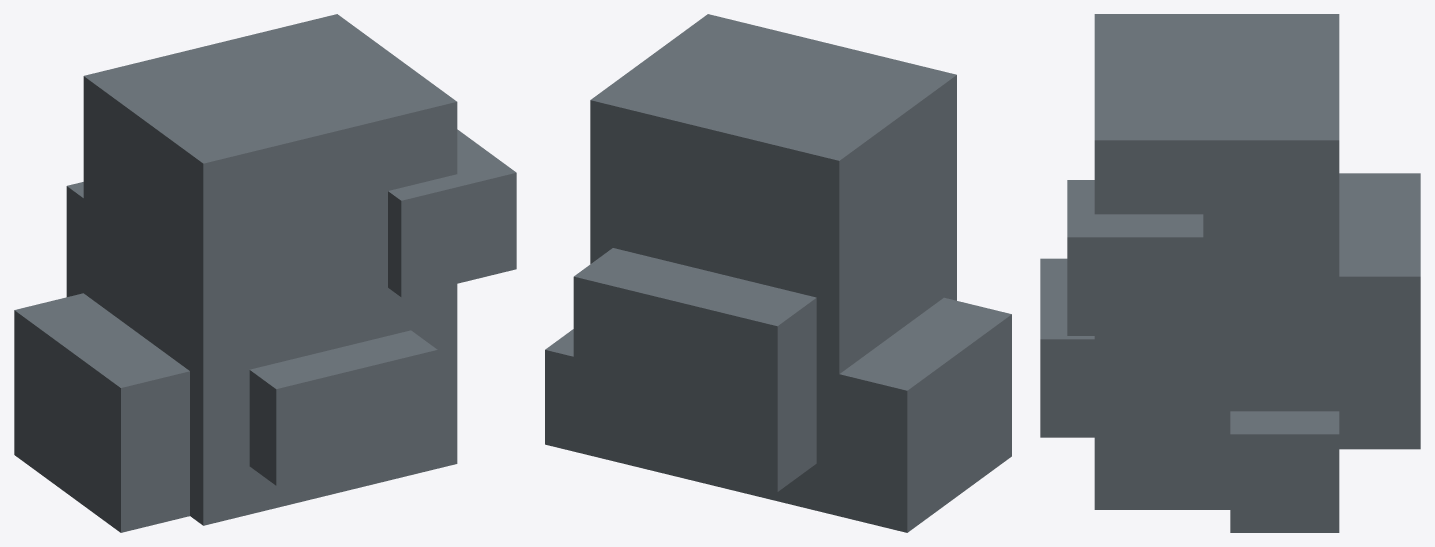
File: rock_4.obj
The picture shows the model from 3 angles, left to right: view 1: azimuth 30°, elevation 25°; view 2: azimuth 150°, elevation 25°; view 3: azimuth 270°, elevation 25°; orthographic projection. The views are drawn at different scales.
Size of the model in its own units: 16 by 15 by 14.
1 material, 1 textured.
